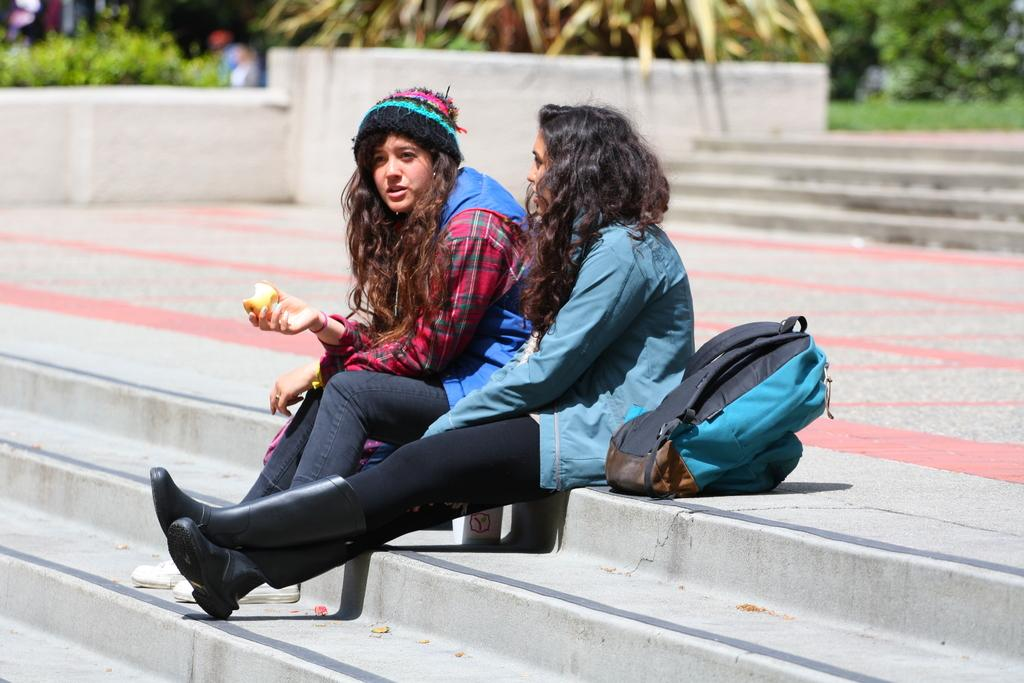Luggage-and-bags: (622, 307, 844, 497)
